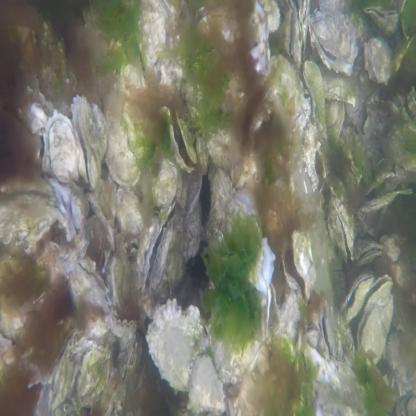Oyster- Indeterminate: (147, 299, 227, 416), (0, 176, 58, 248), (138, 199, 180, 291), (48, 329, 86, 408), (323, 176, 355, 265), (43, 110, 79, 183), (75, 341, 112, 410), (68, 260, 111, 315), (243, 3, 272, 80), (228, 192, 263, 251), (105, 234, 130, 314), (342, 273, 376, 326), (241, 239, 275, 291), (356, 308, 387, 364), (280, 0, 302, 66), (319, 304, 337, 359), (118, 333, 138, 381), (364, 5, 399, 32), (356, 242, 384, 269), (306, 326, 320, 349), (99, 247, 108, 275)
Oyster-Closed: (235, 334, 306, 416), (107, 111, 142, 185), (132, 0, 165, 68), (188, 355, 225, 412), (304, 60, 328, 142), (320, 63, 356, 104), (152, 157, 179, 209), (365, 36, 394, 83), (117, 191, 144, 235), (325, 97, 344, 141), (108, 315, 135, 339)
Oyster-Open: (307, 8, 359, 75), (71, 95, 106, 192), (280, 226, 317, 305), (160, 104, 199, 178), (358, 169, 413, 213), (363, 274, 393, 337), (266, 284, 281, 337), (128, 239, 139, 261)
